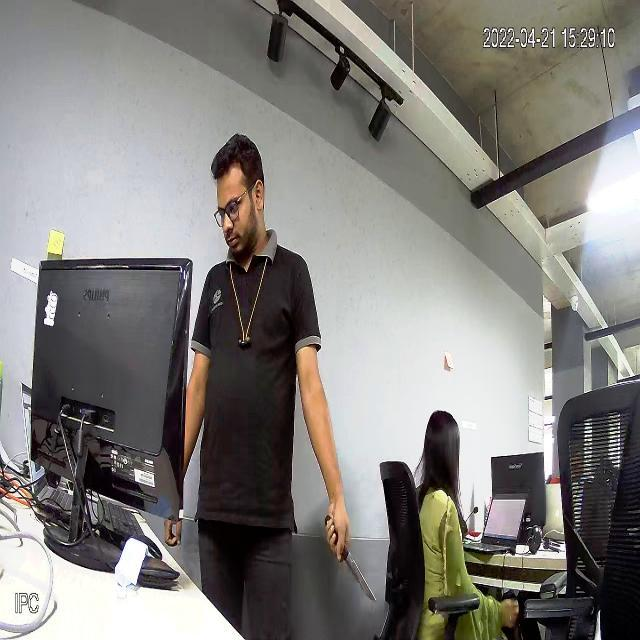Knife: (322, 524, 386, 605)
